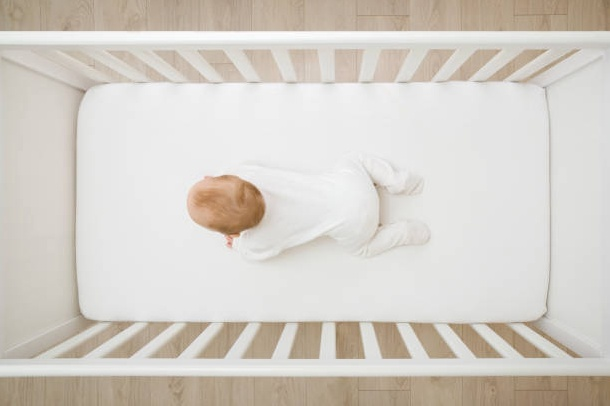baby: (187, 153, 429, 259)
crib: (0, 32, 609, 375)
